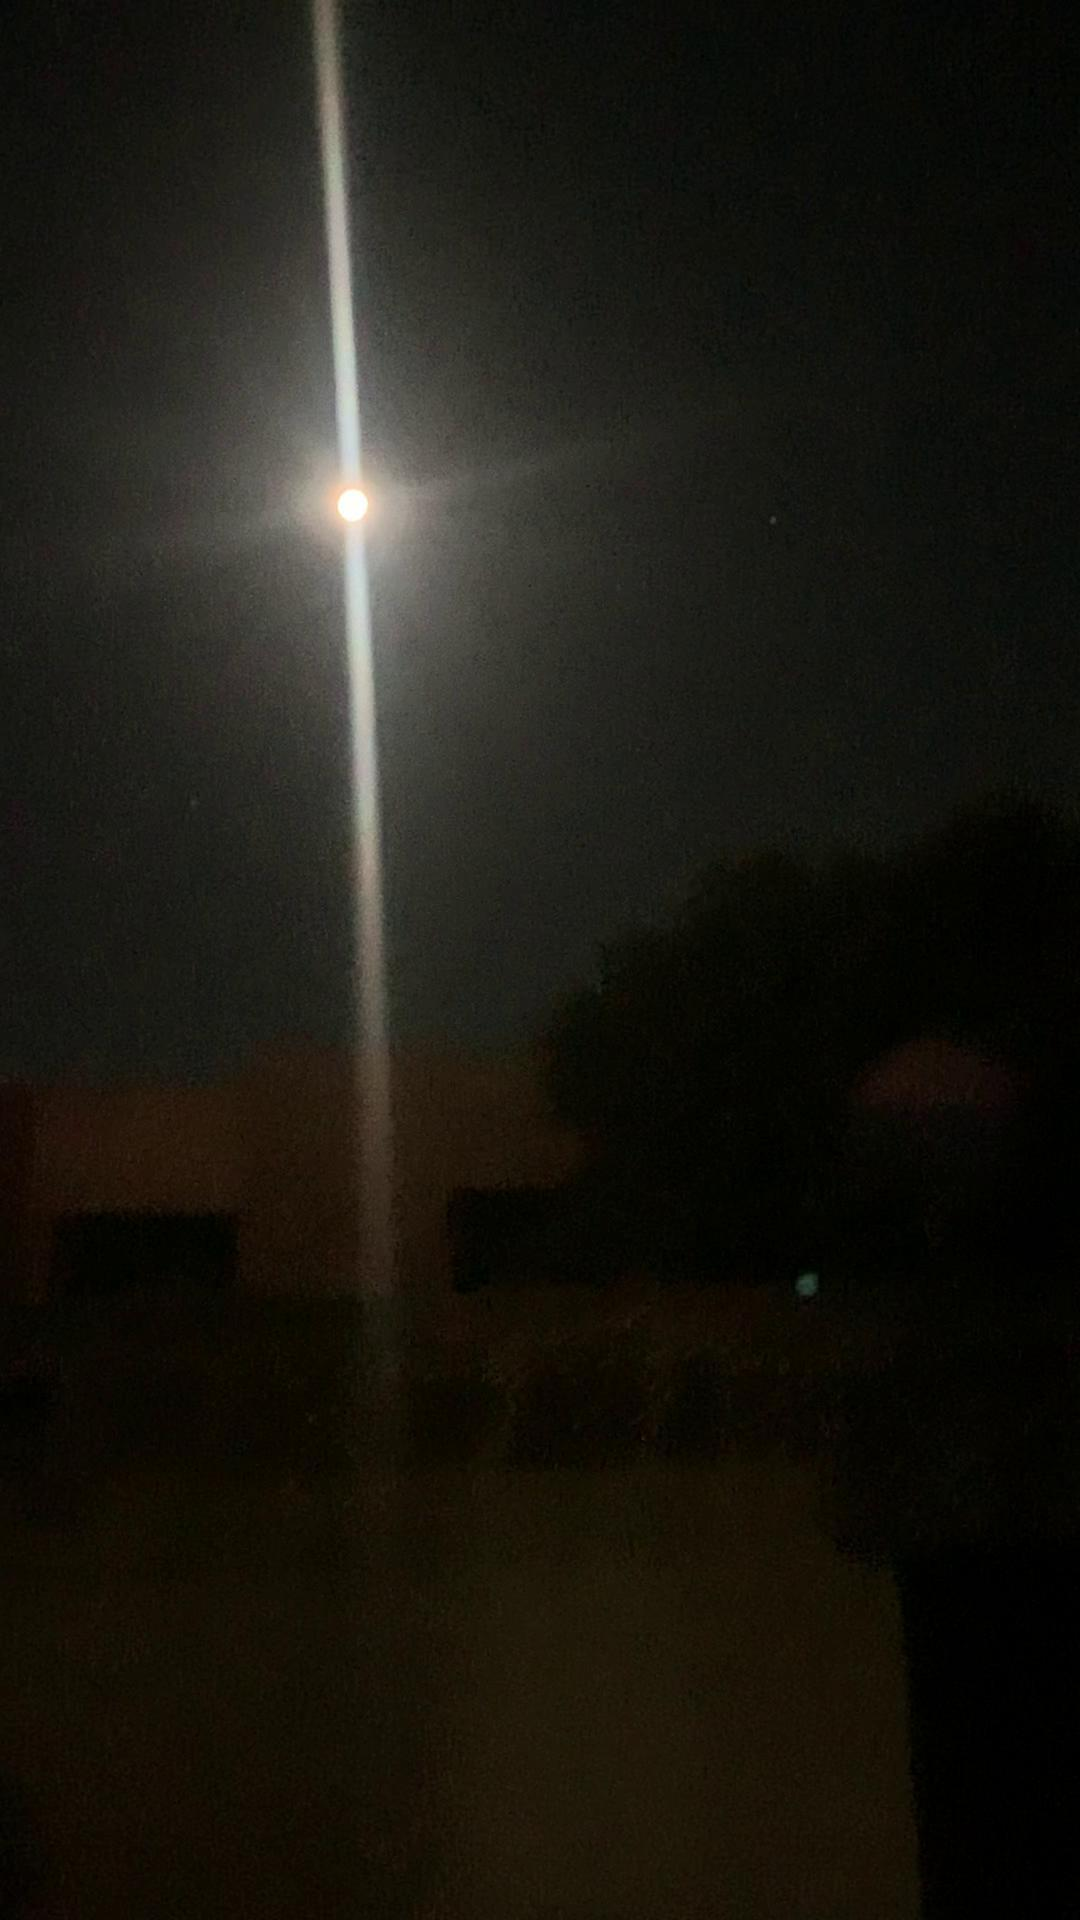moon: (301, 454, 405, 553)
